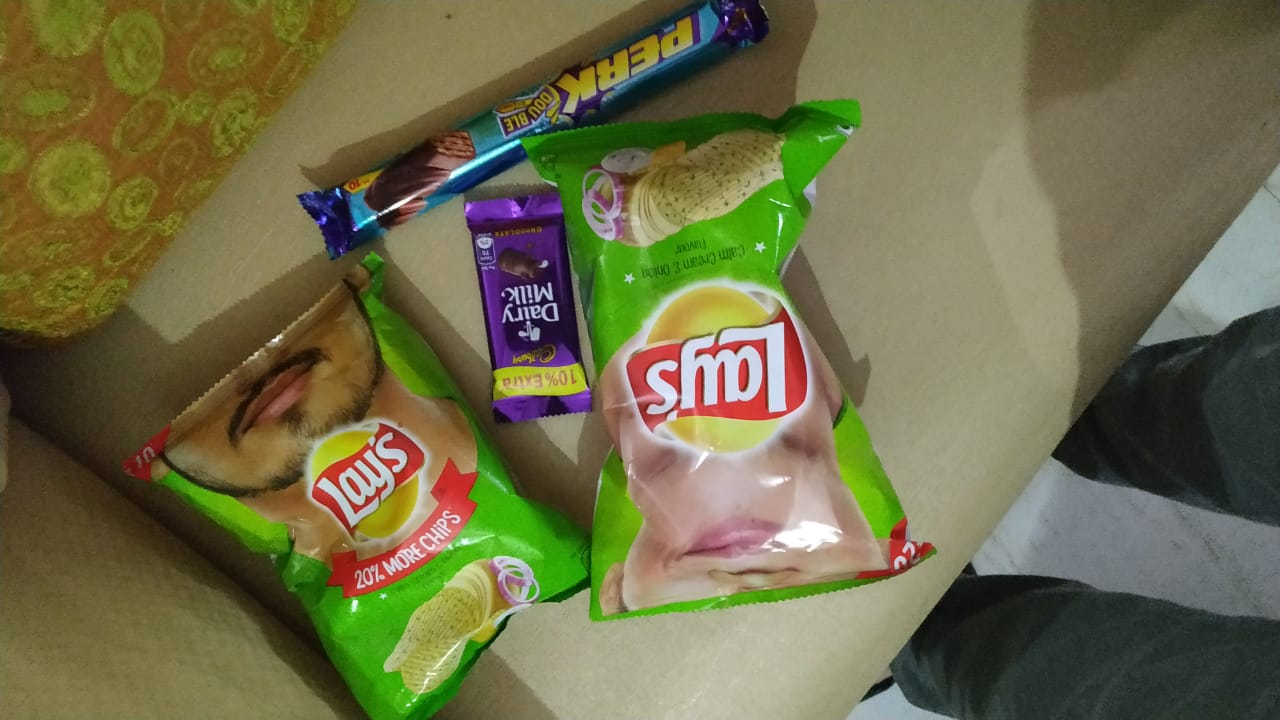dairy milk: (453, 190, 595, 423)
lays chips: (132, 256, 576, 720), (553, 99, 936, 630)
perk: (230, 6, 788, 245)
